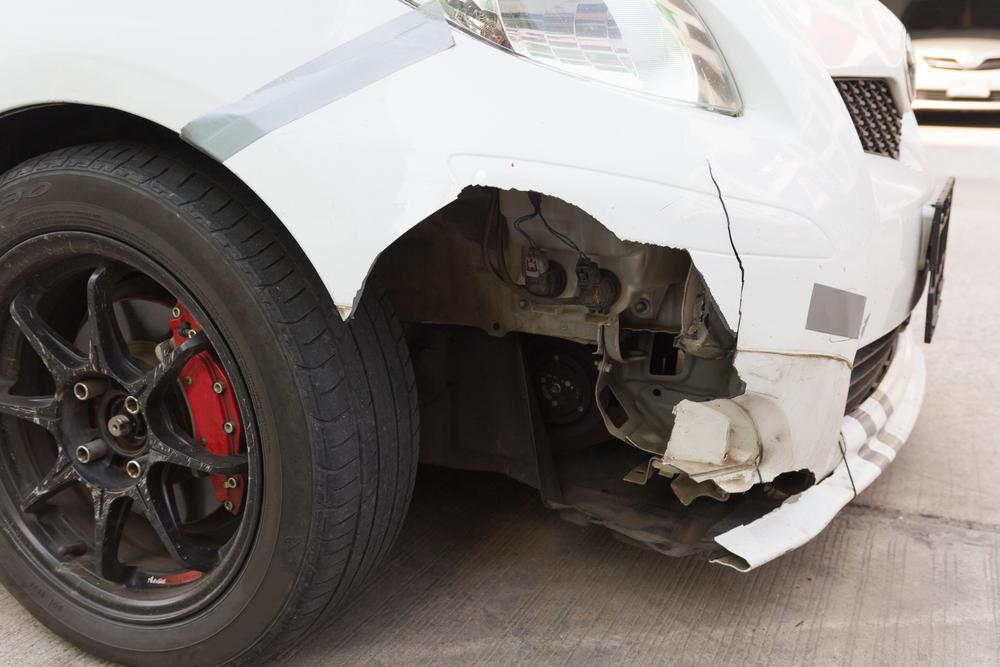crack: (698, 463, 820, 538), (705, 159, 746, 332)
